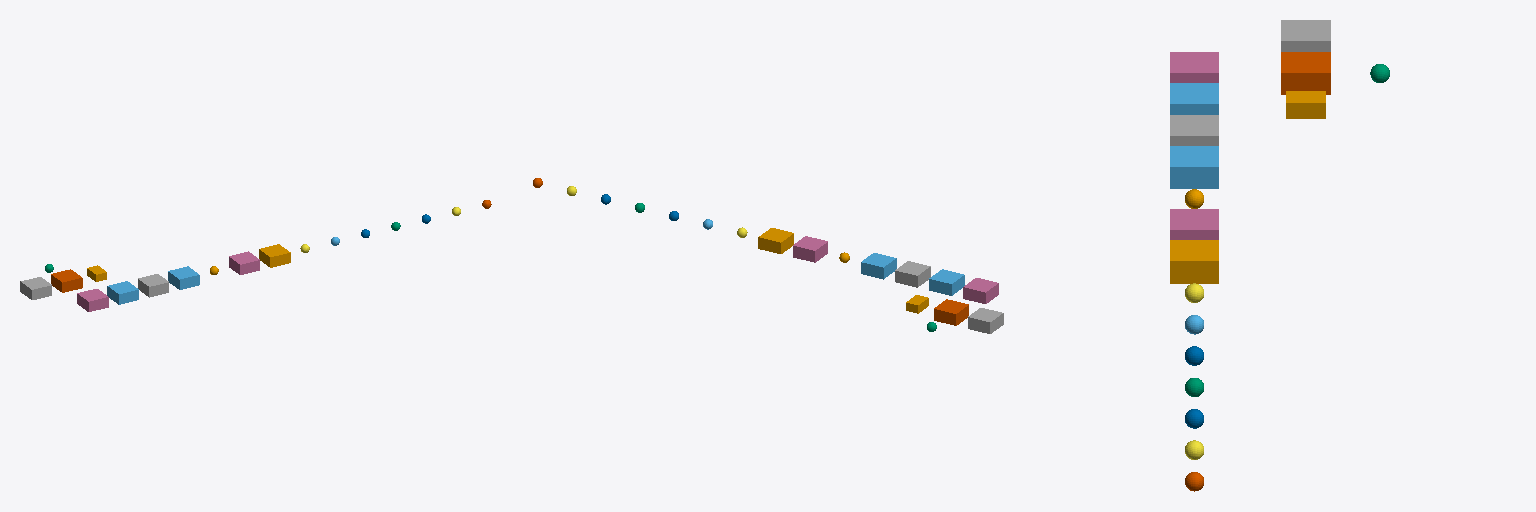
The robot description file, URDF, robot "articulated_robot":
<?xml version="1.0" ?>
<robot name="articulated_robot">
  <link name="central_axis">
    <visual>
      <geometry>
        <sphere radius="0.008"/>
      </geometry>
    </visual>
  </link>
  <link name="first_common_point">
    <visual>
      <geometry>
        <sphere radius="0.008"/>
      </geometry>
    </visual>
  </link>
  <link name="first_driving_motor">
    <visual>
      <geometry>
        <sphere radius="0.008"/>
      </geometry>
    </visual>
  </link>
  <link name="first_pivot_axis">
    <visual>
      <geometry>
        <sphere radius="0.008"/>
      </geometry>
    </visual>
  </link>
  <link name="first_reduction_gear">
    <visual>
      <geometry>
        <sphere radius="0.008"/>
      </geometry>
    </visual>
  </link>
  <link name="first_wrist">
    <visual>
      <geometry>
        <box size="0.04 0.04 0.02"/>
      </geometry>
    </visual>
  </link>
  <link name="fixed_stand">
    <visual>
      <geometry>
        <box size="0.04 0.04 0.02"/>
      </geometry>
    </visual>
  </link>
  <link name="forearm">
    <visual>
      <geometry>
        <box size="0.04 0.04 0.02"/>
      </geometry>
    </visual>
  </link>
  <link name="operating_part">
    <visual>
      <geometry>
        <box size="0.022 0.032 0.014"/>
      </geometry>
    </visual>
  </link>
  <link name="robot_body">
    <visual>
      <geometry>
        <box size="0.04 0.04 0.02"/>
      </geometry>
    </visual>
  </link>
  <link name="second_common_point">
    <visual>
      <geometry>
        <sphere radius="0.008"/>
      </geometry>
    </visual>
  </link>
  <link name="second_driving_motor">
    <visual>
      <geometry>
        <sphere radius="0.008"/>
      </geometry>
    </visual>
  </link>
  <link name="second_pivot_axis">
    <visual>
      <geometry>
        <sphere radius="0.008"/>
      </geometry>
    </visual>
  </link>
  <link name="second_reduction_gear">
    <visual>
      <geometry>
        <sphere radius="0.008"/>
      </geometry>
    </visual>
  </link>
  <link name="second_wrist">
    <visual>
      <geometry>
        <box size="0.04 0.04 0.02"/>
      </geometry>
    </visual>
  </link>
  <link name="swivel_stand">
    <visual>
      <geometry>
        <box size="0.04 0.04 0.02"/>
      </geometry>
    </visual>
  </link>
  <link name="third_wrist">
    <visual>
      <geometry>
        <box size="0.04 0.04 0.02"/>
      </geometry>
    </visual>
  </link>
  <link name="upper_arm">
    <visual>
      <geometry>
        <box size="0.04 0.04 0.02"/>
      </geometry>
    </visual>
  </link>
  <joint name="_attach_forearm_to_central_axis" type="fixed">
    <parent link="forearm"/>
    <child link="central_axis"/>
    <origin xyz="0.3000 -0.0900 0.0000" rpy="0 0 0"/>
  </joint>
  <joint name="_attach_forearm_to_first_common_point" type="fixed">
    <parent link="forearm"/>
    <child link="first_common_point"/>
    <origin xyz="0.5400 -0.0900 0.0000" rpy="0 0 0"/>
  </joint>
  <joint name="_attach_forearm_to_first_driving_motor" type="fixed">
    <parent link="forearm"/>
    <child link="first_driving_motor"/>
    <origin xyz="0.0600 0.0600 0.0000" rpy="0 0 0"/>
  </joint>
  <joint name="_attach_forearm_to_first_pivot_axis" type="fixed">
    <parent link="forearm"/>
    <child link="first_pivot_axis"/>
    <origin xyz="0.4800 -0.0900 0.0000" rpy="0 0 0"/>
  </joint>
  <joint name="_attach_forearm_to_first_reduction_gear" type="fixed">
    <parent link="forearm"/>
    <child link="first_reduction_gear"/>
    <origin xyz="0.7200 -0.0900 0.0000" rpy="0 0 0"/>
  </joint>
  <joint name="_attach_forearm_to_first_wrist" type="fixed">
    <parent link="forearm"/>
    <child link="first_wrist"/>
    <origin xyz="0.0600 0.0000 0.0000" rpy="0 0 0"/>
  </joint>
  <joint name="_attach_forearm_to_operating_part" type="fixed">
    <parent link="forearm"/>
    <child link="operating_part"/>
    <origin xyz="0.1200 0.0000 0.0000" rpy="0 0 0"/>
  </joint>
  <joint name="_attach_forearm_to_robot_body" type="fixed">
    <parent link="forearm"/>
    <child link="robot_body"/>
    <origin xyz="0.1200 -0.0900 0.0000" rpy="0 0 0"/>
  </joint>
  <joint name="_attach_forearm_to_second_common_point" type="fixed">
    <parent link="forearm"/>
    <child link="second_common_point"/>
    <origin xyz="0.6600 -0.0900 0.0000" rpy="0 0 0"/>
  </joint>
  <joint name="_attach_forearm_to_second_driving_motor" type="fixed">
    <parent link="forearm"/>
    <child link="second_driving_motor"/>
    <origin xyz="0.7800 -0.0900 0.0000" rpy="0 0 0"/>
  </joint>
  <joint name="_attach_forearm_to_second_pivot_axis" type="fixed">
    <parent link="forearm"/>
    <child link="second_pivot_axis"/>
    <origin xyz="0.6000 -0.0900 0.0000" rpy="0 0 0"/>
  </joint>
  <joint name="_attach_forearm_to_second_reduction_gear" type="fixed">
    <parent link="forearm"/>
    <child link="second_reduction_gear"/>
    <origin xyz="0.8400 -0.0900 0.0000" rpy="0 0 0"/>
  </joint>
  <joint name="_attach_forearm_to_second_wrist" type="fixed">
    <parent link="forearm"/>
    <child link="second_wrist"/>
    <origin xyz="0.3600 -0.0900 0.0000" rpy="0 0 0"/>
  </joint>
  <joint name="_attach_forearm_to_third_wrist" type="fixed">
    <parent link="forearm"/>
    <child link="third_wrist"/>
    <origin xyz="0.4200 -0.0900 0.0000" rpy="0 0 0"/>
  </joint>
  <joint name="_attach_forearm_to_upper_arm" type="fixed">
    <parent link="forearm"/>
    <child link="upper_arm"/>
    <origin xyz="0.2400 -0.0900 0.0000" rpy="0 0 0"/>
  </joint>
  <joint name="_attach_swivel_stand_to_fixed_stand" type="fixed">
    <parent link="swivel_stand"/>
    <child link="fixed_stand"/>
    <origin xyz="-0.1200 0.0000 0.0000" rpy="0 0 0"/>
  </joint>
  <joint name="_attach_upper_arm_to_swivel_stand" type="fixed">
    <parent link="upper_arm"/>
    <child link="swivel_stand"/>
    <origin xyz="-0.0600 0.0000 0.0000" rpy="0 0 0"/>
  </joint>
</robot>

--- What the picture shows (computed from the rendered views, not written in the file) ---
The picture shows the robot from 3 angles, left to right: view 1: azimuth 30°, elevation 25°; view 2: azimuth 150°, elevation 25°; view 3: azimuth 270°, elevation 25°; orthographic projection.
Robot: articulated_robot — 18 links, 17 joints (17 fixed); root link forearm; default pose: all joints at 0.
Links seen in each view (by area): view 1: fixed_stand, forearm, first_wrist, robot_body, third_wrist, upper_arm, second_wrist, swivel_stand; view 2: forearm, fixed_stand, third_wrist, robot_body, swivel_stand, upper_arm, first_wrist, second_wrist; view 3: third_wrist, upper_arm, first_wrist, forearm, robot_body, fixed_stand, second_wrist, swivel_stand, operating_part.
Boxes of the visible links, x1,y1,x2,y2 form: fixed_stand: [77, 289, 108, 311]; forearm: [20, 277, 51, 299]; first_wrist: [51, 269, 82, 292]; robot_body: [107, 281, 138, 304]; third_wrist: [259, 244, 290, 267]; upper_arm: [168, 266, 199, 289]; second_wrist: [229, 251, 259, 274]; swivel_stand: [138, 274, 168, 297]; forearm: [968, 308, 1003, 333]; fixed_stand: [963, 278, 998, 303]; third_wrist: [758, 228, 793, 253]; robot_body: [929, 269, 964, 295]; swivel_stand: [895, 261, 930, 287]; upper_arm: [861, 253, 896, 279]; first_wrist: [934, 299, 968, 325]; second_wrist: [793, 236, 827, 262]; third_wrist: [1170, 240, 1218, 283]; upper_arm: [1170, 146, 1218, 188]; first_wrist: [1281, 52, 1330, 94]; forearm: [1281, 20, 1330, 51]; robot_body: [1170, 83, 1218, 114]; fixed_stand: [1170, 52, 1218, 82]; second_wrist: [1170, 209, 1218, 239]; swivel_stand: [1170, 115, 1218, 145]; operating_part: [1286, 91, 1325, 118].
Size in the robot's own frame: 0.868 by 0.178 by 0.02 metres.
Geometry: primitives only (box / cylinder / sphere), no mesh files.
